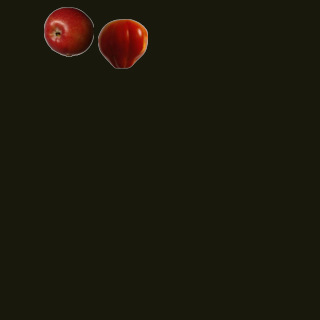Apple Braeburn: (43, 6, 93, 56)
Tomato 1: (97, 18, 147, 68)
